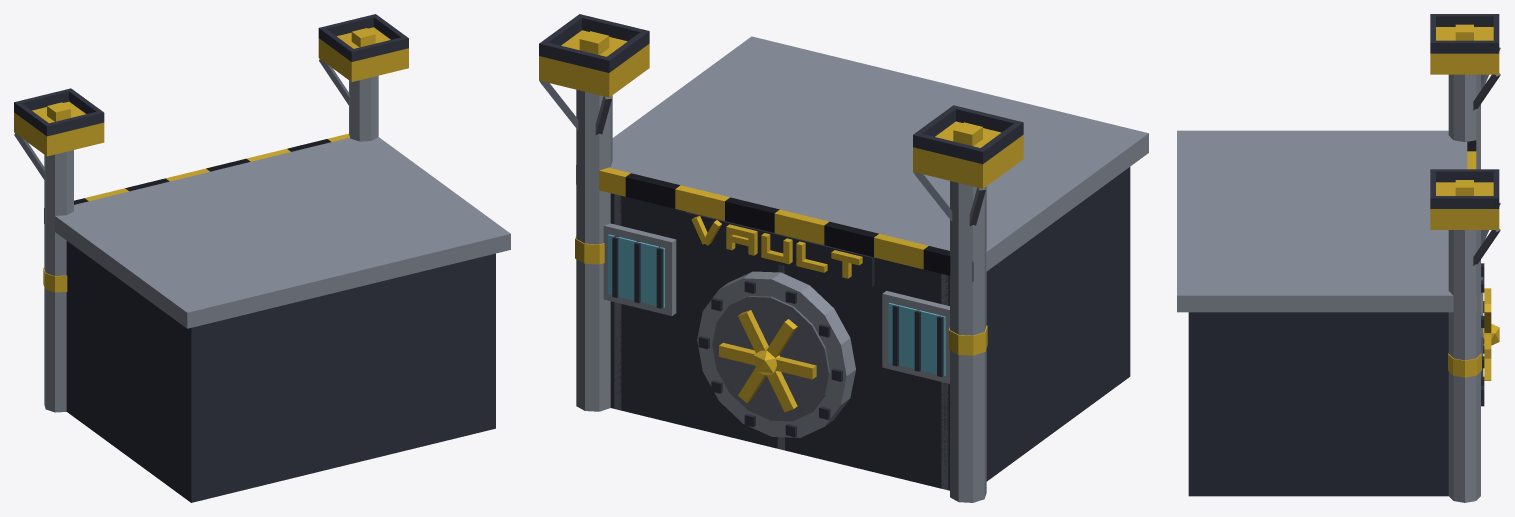
The model's file is Decor_HeroHQ_Vault.fbx.
3 renders of one model, left to right at view 1: azimuth 30°, elevation 25°; view 2: azimuth 150°, elevation 25°; view 3: azimuth 270°, elevation 25°, orthographic. The views are drawn at different scales.
Visible parts, largest first — view 1: Vault_Body; view 2: Vault_Body; view 3: Vault_Body.
Part boxes in pixels (x1,y1,x2,y2): Vault_Body: (14, 14, 510, 502); Vault_Body: (539, 14, 1148, 502); Vault_Body: (1177, 14, 1500, 502).
Size of the model in its own units: 19 by 14.9 by 14.
